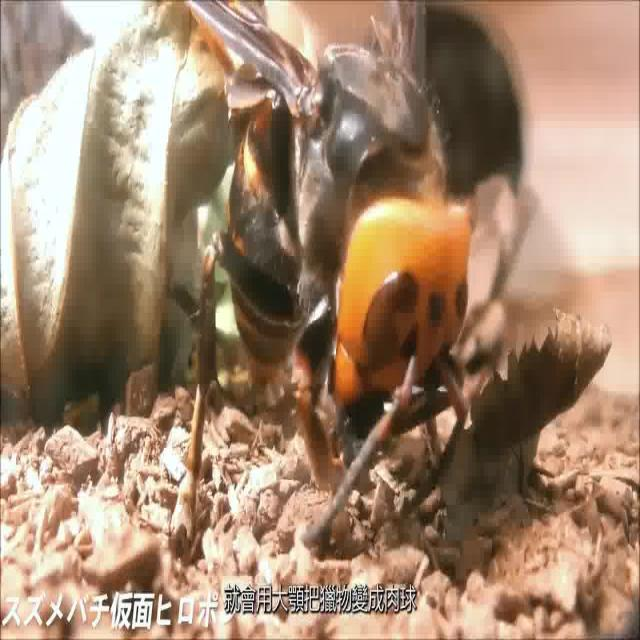Wasp: (192, 0, 486, 447)
